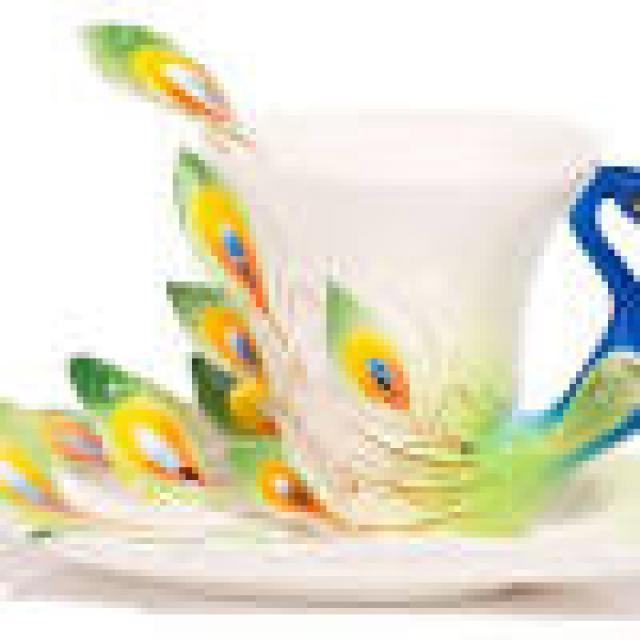taza: (215, 76, 640, 542)
